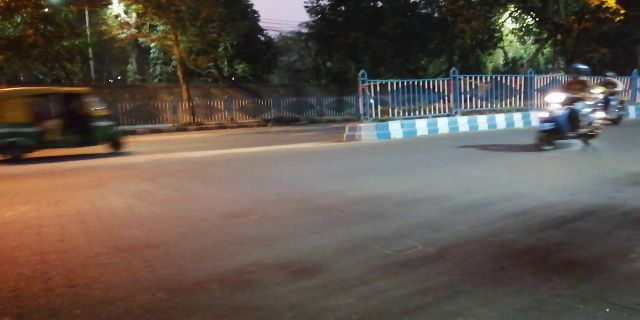Autorickshaw: (11, 80, 123, 153)
Motorbike: (534, 66, 603, 154)
